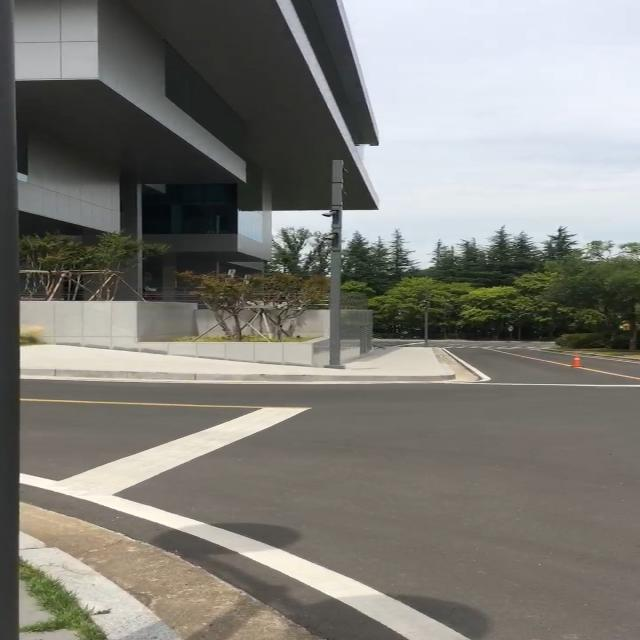obstacle: (326, 160, 346, 370), (570, 352, 588, 370)
road: (20, 348, 640, 640)
sidewalk: (19, 538, 185, 640), (20, 344, 456, 382)
